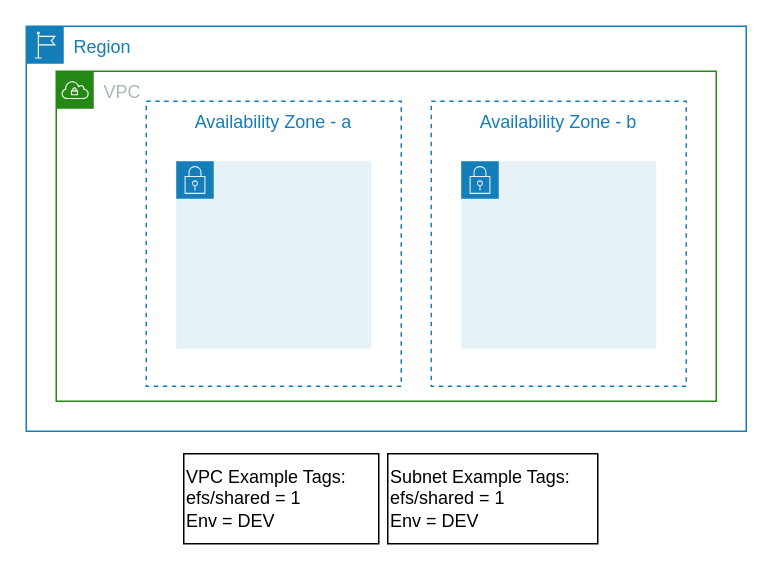
The diagram is 773 pixels wide and 570 high, and some of its shapes have lost their labels. The shapes that lost their labels are listed below. From the top down, each one's centre as x and y in pixels, then its label:
At (x=273, y=254): "Private subnet 1".
At (x=558, y=254): "Private subnet 2".
